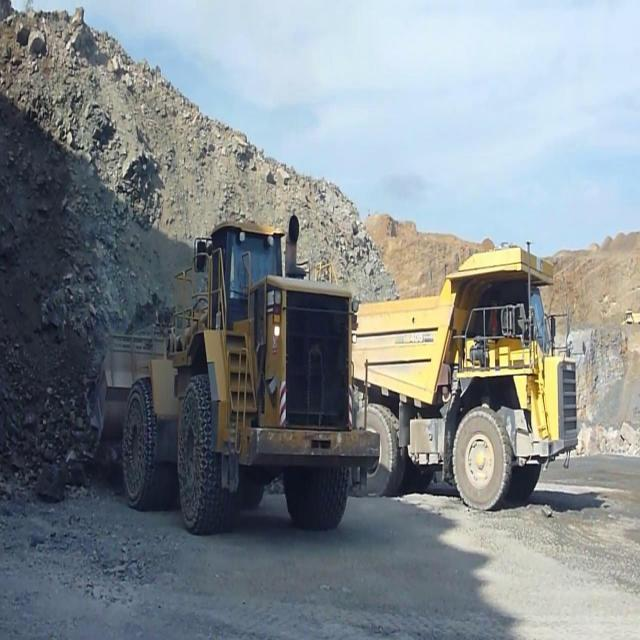Dump Truck: (353, 242, 579, 508)
Loader: (84, 216, 380, 532)
